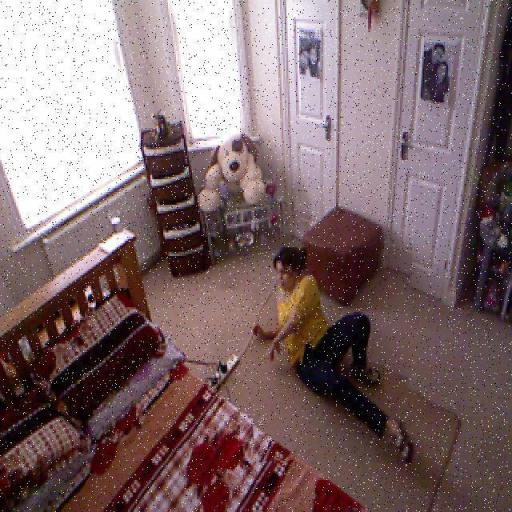Fall: (253, 247, 413, 463)
